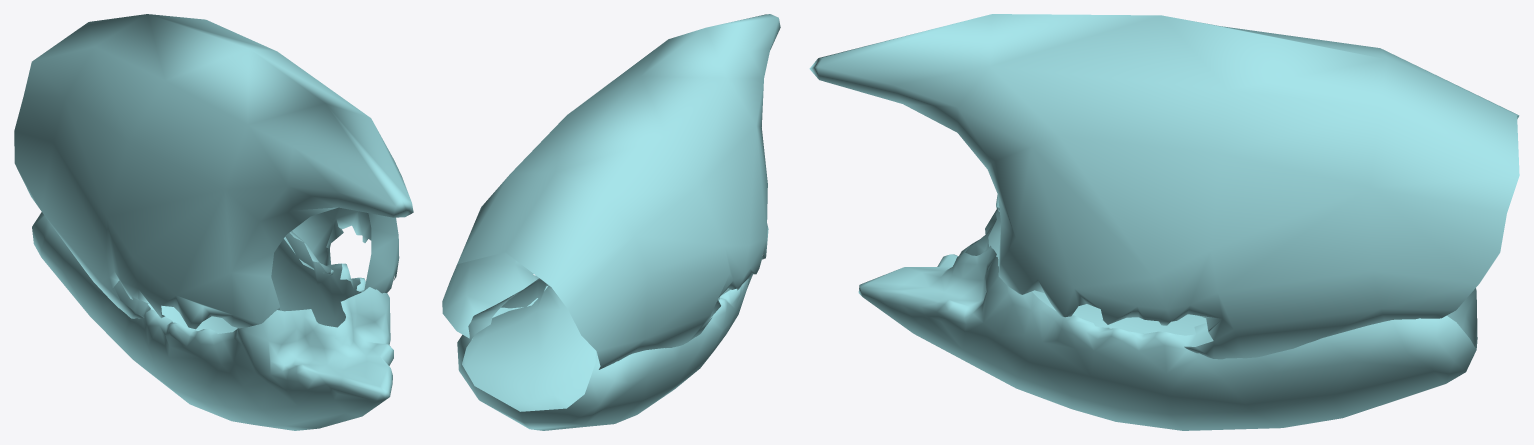
File: Shrimp_Body_Cherry_LOD1.fbx
3 views of the same model, side by side, from view 1: azimuth 30°, elevation 25°; view 2: azimuth 150°, elevation 25°; view 3: azimuth 270°, elevation 25° (orthographic). The views are drawn at different scales.
Visible parts, largest first — view 1: Ch.back_low_LOD1, Ch.stomach_low_LOD1; view 2: Ch.back_low_LOD1, Ch.stomach_low_LOD1; view 3: Ch.back_low_LOD1, Ch.stomach_low_LOD1.
Boxes of the visible parts, box(x1,y1,x2,y2) form: Ch.back_low_LOD1: box(14, 14, 413, 329); Ch.stomach_low_LOD1: box(32, 212, 393, 430); Ch.back_low_LOD1: box(442, 14, 780, 369); Ch.stomach_low_LOD1: box(457, 274, 752, 430); Ch.back_low_LOD1: box(809, 14, 1519, 359); Ch.stomach_low_LOD1: box(858, 207, 1477, 430).
Size of the model in its own units: 38.51 by 54.15 by 85.51.
